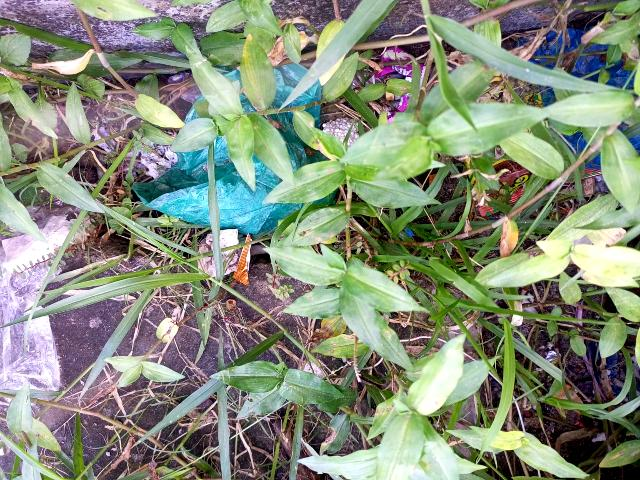polythene: (118, 15, 349, 275)
